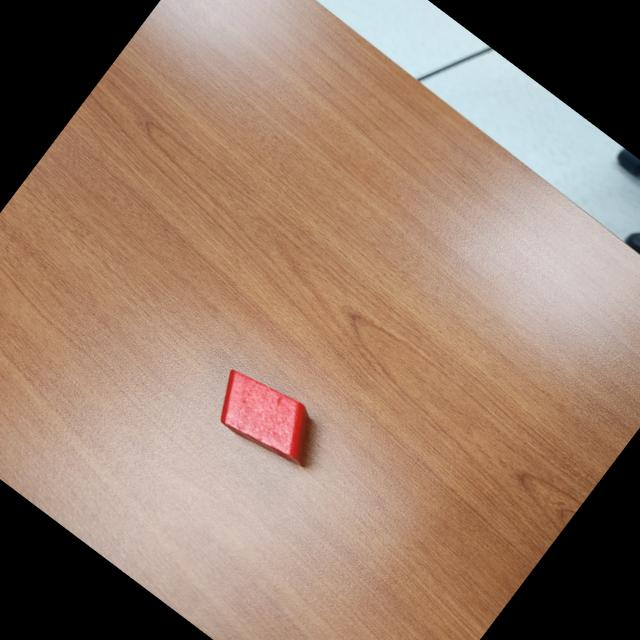red: (201, 358, 335, 480)
